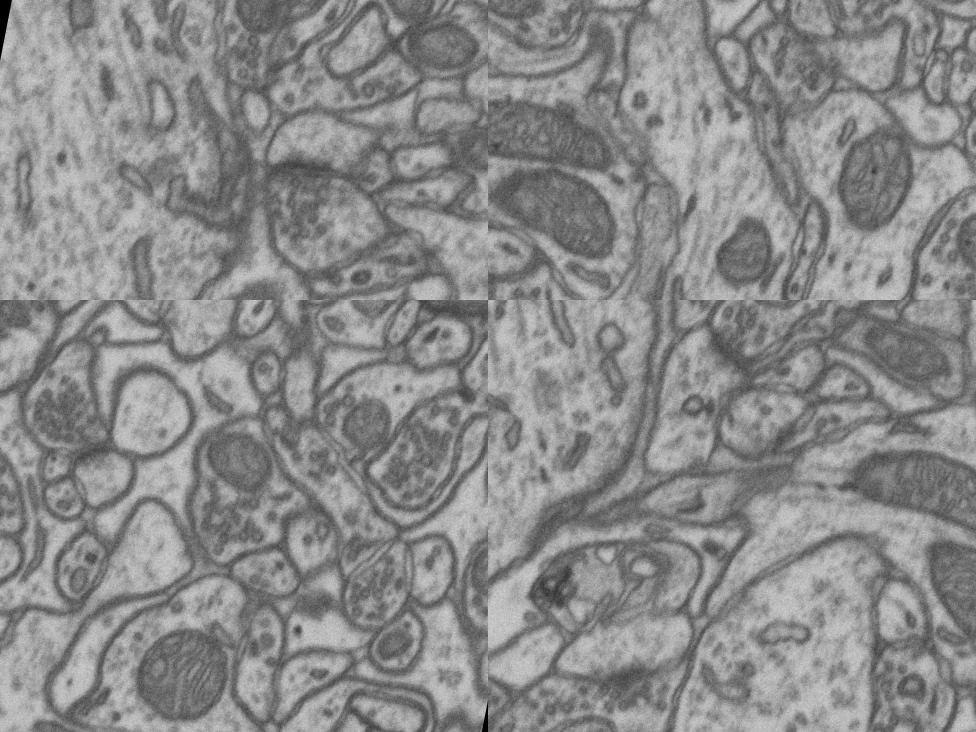mitochondria: (488, 150, 632, 269), (838, 437, 976, 558), (488, 77, 622, 196), (121, 618, 243, 732), (826, 120, 924, 242), (851, 308, 960, 394), (201, 430, 301, 518), (906, 527, 976, 645), (394, 8, 488, 82), (709, 209, 783, 295), (332, 391, 404, 466), (222, 0, 291, 48), (445, 118, 488, 184), (944, 203, 976, 290), (373, 0, 443, 37), (455, 537, 488, 611), (334, 300, 414, 327), (488, 0, 553, 30), (0, 300, 26, 344)
